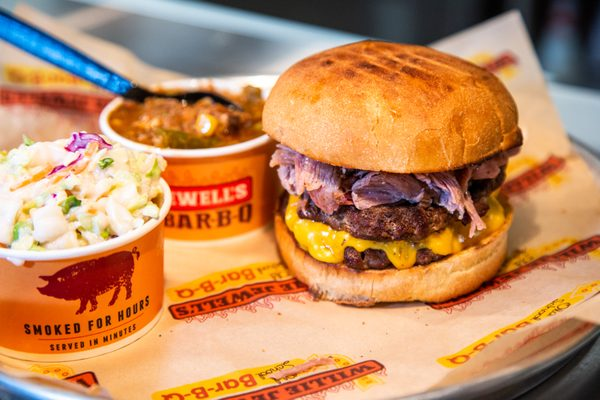pizza: (0, 122, 172, 374)
soup: (262, 39, 530, 306)
sushi: (0, 127, 171, 369)
